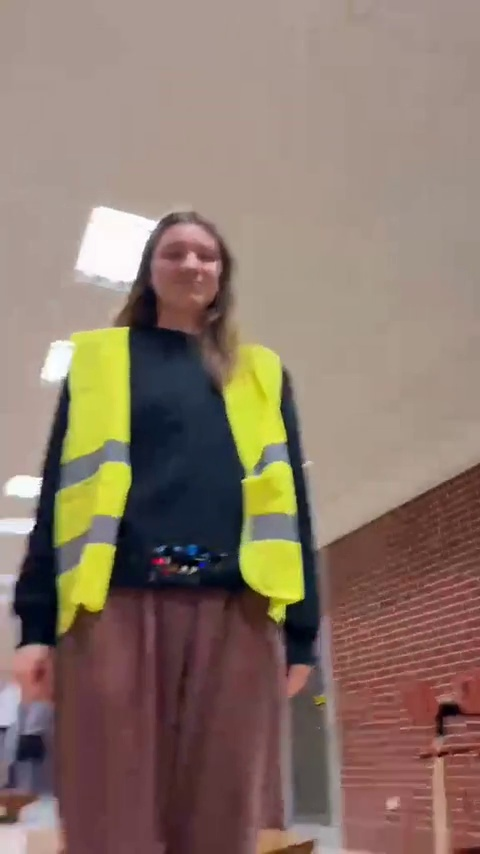drone: (147, 542, 239, 587)
vest: (35, 213, 328, 847)
